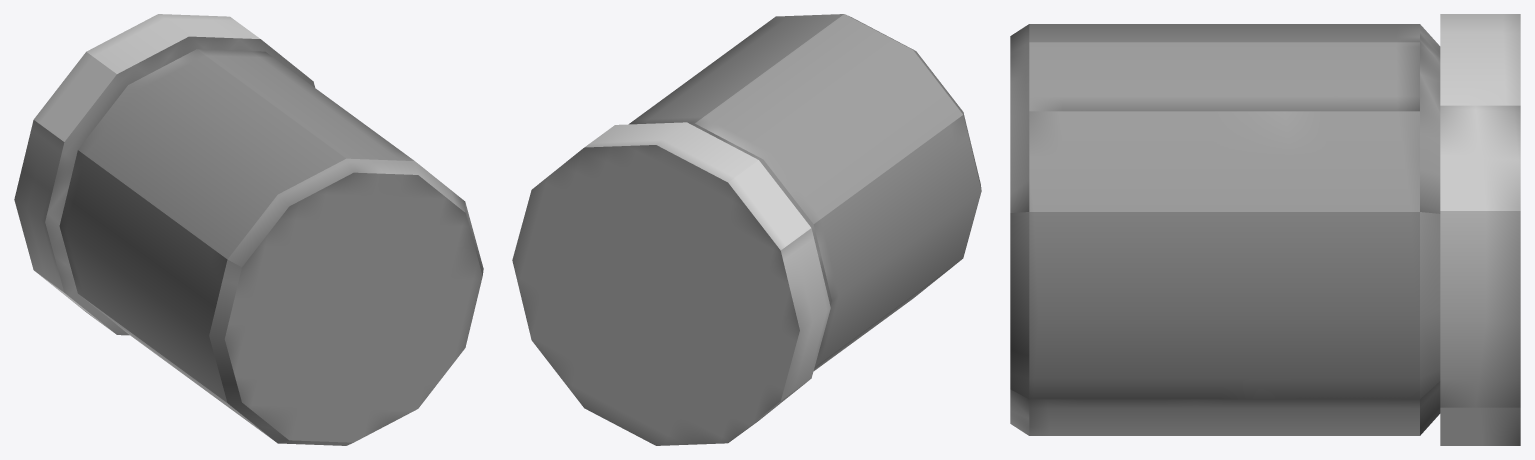
The model's file is Jar_Large.fbx.
The picture shows the model from 3 angles, left to right: view 1: azimuth 30°, elevation 25°; view 2: azimuth 150°, elevation 25°; view 3: azimuth 270°, elevation 25°; orthographic projection. The views are drawn at different scales.
Visible parts, largest first — view 1: Jar_Large; view 2: Jar_Large; view 3: Jar_Large.
Part boxes in pixels (<box>): Jar_Large: <box>14,14,483,445</box>; Jar_Large: <box>512,14,981,445</box>; Jar_Large: <box>1010,14,1520,445</box>.
Bounding box in the file's own units: 33.18 × 33.18 × 39.06.
